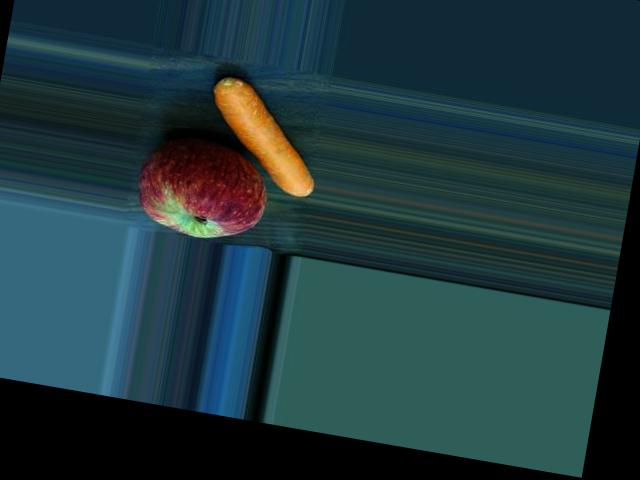carrot: (198, 72, 330, 199)
